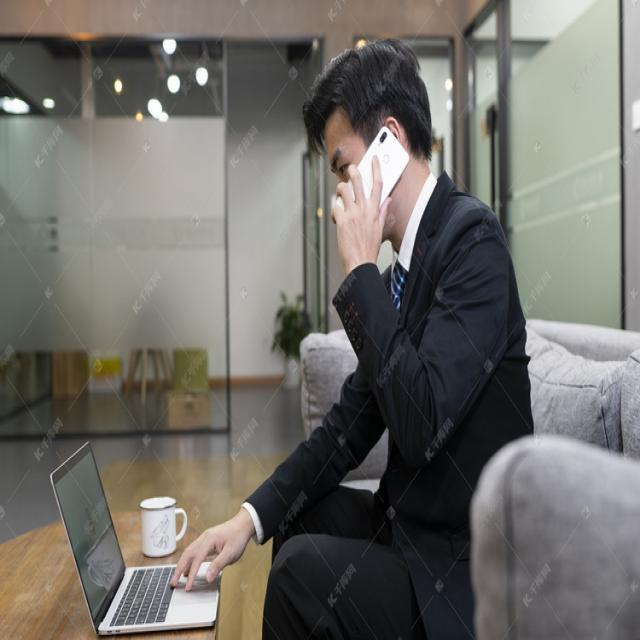phone: (336, 128, 410, 230)
